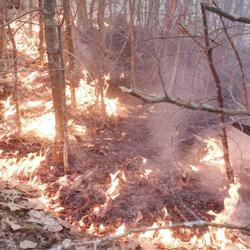fire: (158, 228, 229, 246), (21, 112, 57, 139), (1, 153, 40, 175), (76, 79, 97, 109)
